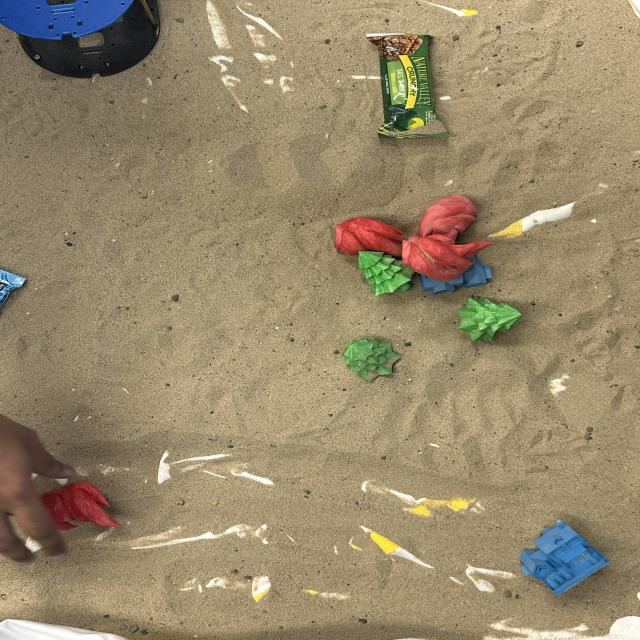fire: (402, 234, 490, 278), (39, 484, 121, 531), (333, 216, 406, 255), (418, 194, 478, 240)
house: (516, 518, 610, 596), (421, 254, 492, 293)
tree: (456, 295, 522, 343), (355, 249, 416, 295), (342, 337, 402, 382)
